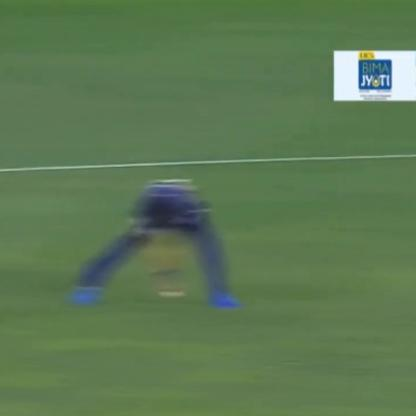ball: (168, 289, 194, 300), (155, 291, 170, 298)
